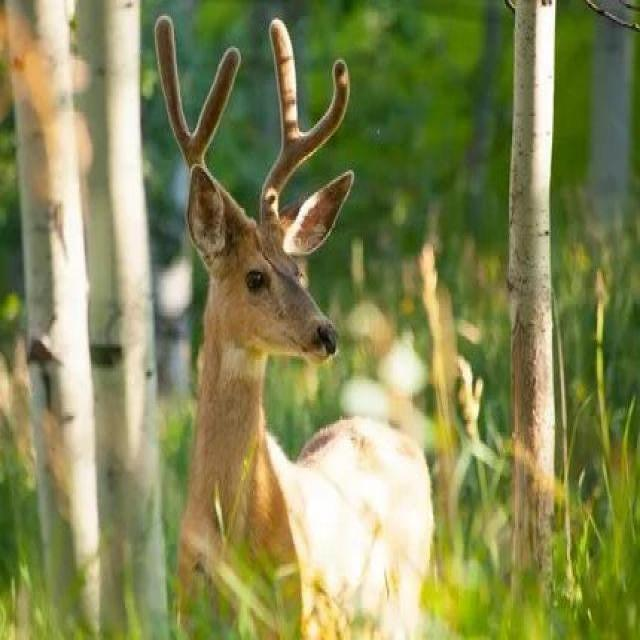deer: (144, 90, 469, 640)
